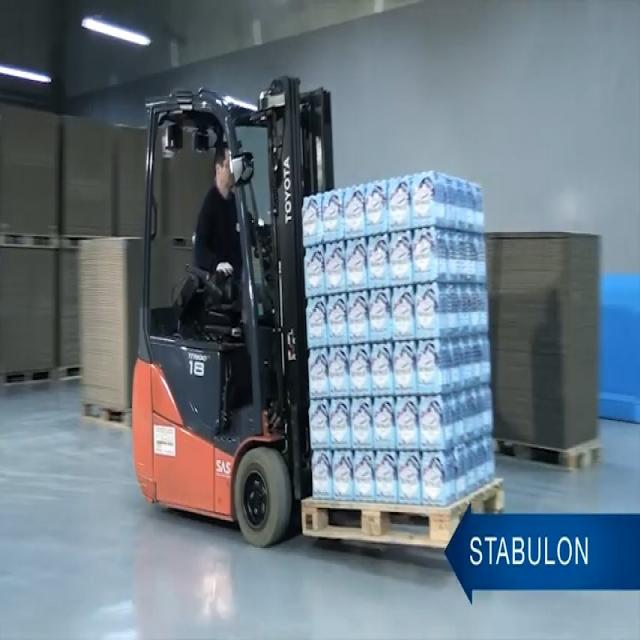Chariot elevateur: (124, 72, 341, 557)
Palette: (300, 473, 511, 555), (498, 429, 608, 474), (80, 389, 131, 435), (0, 364, 55, 400), (0, 226, 58, 256), (61, 230, 98, 262), (54, 361, 84, 395)
